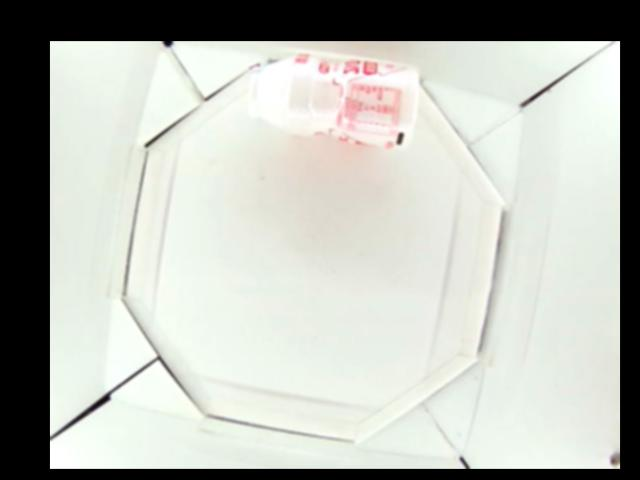Bottle: (245, 52, 421, 147)
